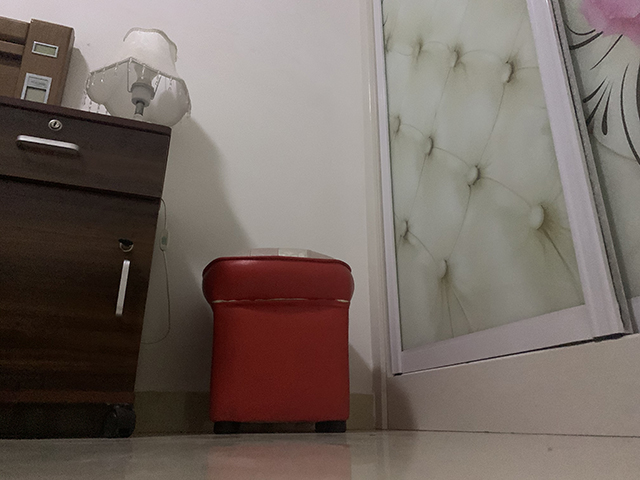cabinet: (370, 1, 639, 438), (1, 95, 173, 439)
stool: (195, 242, 356, 431)
